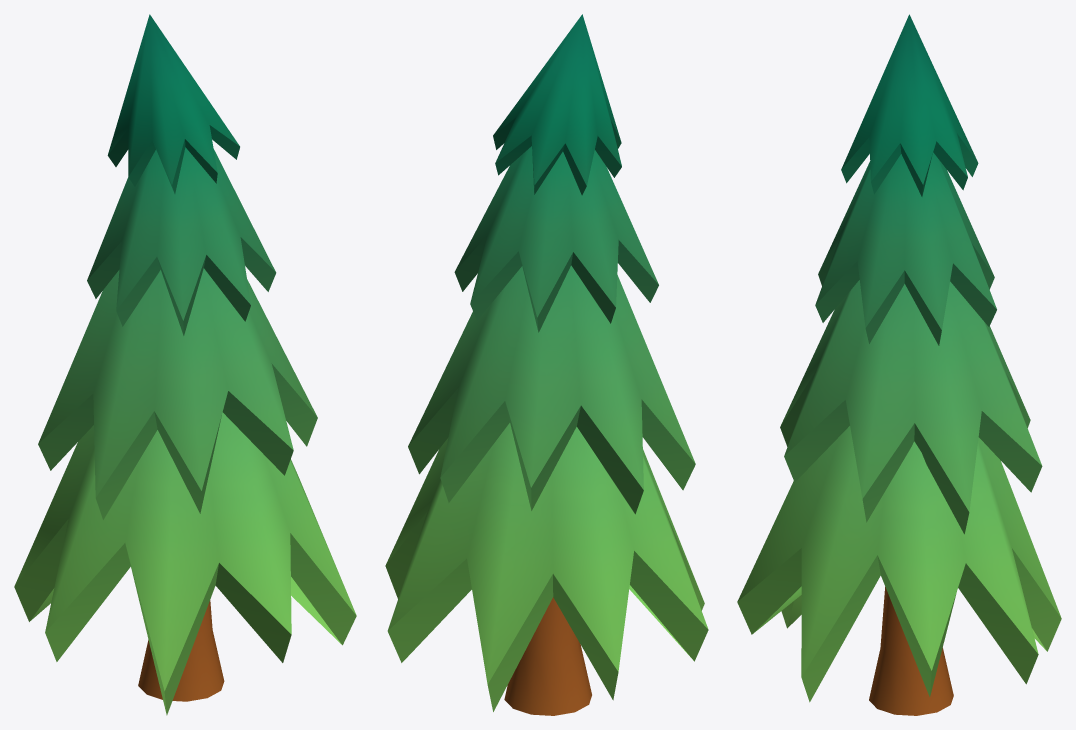
Rendered from sapin-10.glb.
3 renders of one model, left to right at view 1: azimuth 30°, elevation 25°; view 2: azimuth 150°, elevation 25°; view 3: azimuth 270°, elevation 25°, orthographic. The views are drawn at different scales.
Parts seen in each view (by area): view 1: Tree_03_Material_main_0; view 2: Tree_03_Material_main_0; view 3: Tree_03_Material_main_0.
Part boxes in pixels (x1,y1,x2,y2): Tree_03_Material_main_0: (14, 14, 356, 715); Tree_03_Material_main_0: (385, 14, 708, 715); Tree_03_Material_main_0: (737, 14, 1061, 715).
Bounding box in the file's own units: 1.94 × 4.24 × 1.87.
Materials: 1 (1 with a texture image).
